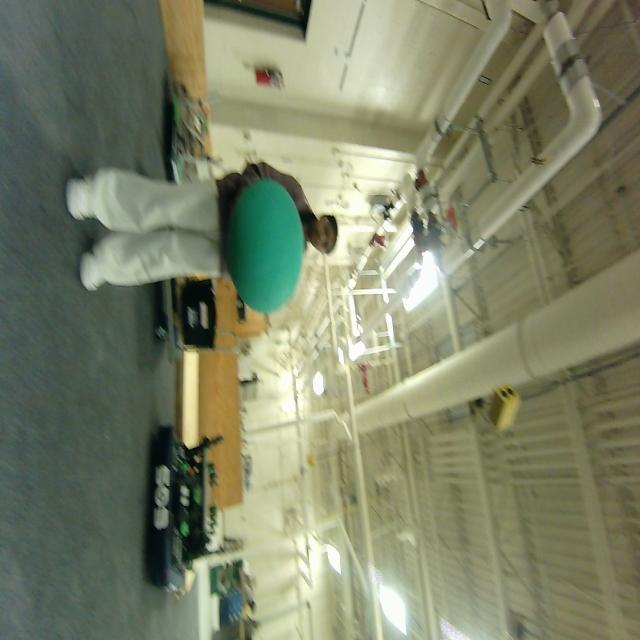algae: (217, 177, 309, 316)
